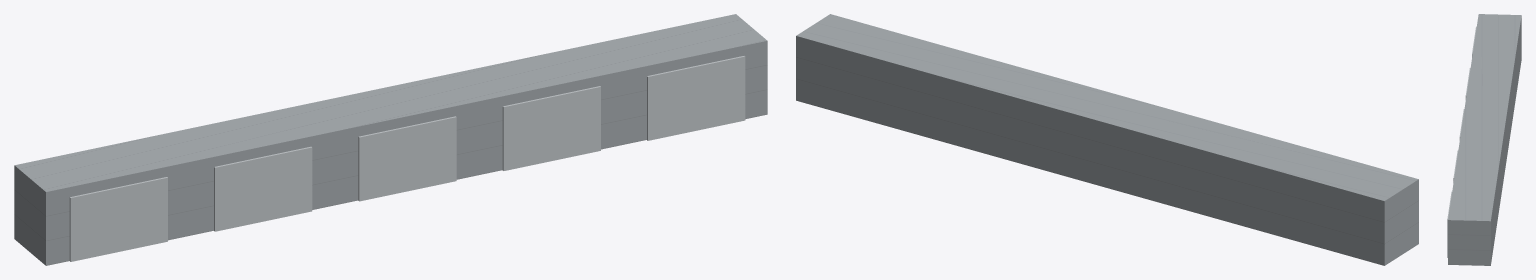
Rendered from garageGroup.glb.
The picture shows the model from 3 angles, left to right: view 1: azimuth 30°, elevation 25°; view 2: azimuth 150°, elevation 25°; view 3: azimuth 270°, elevation 25°; orthographic projection. The views are drawn at different scales.
Visible parts, largest first — view 1: garageGroup; view 2: garageGroup; view 3: garageGroup.
Boxes of the visible parts, x1,y1,x2,y2 form: garageGroup: (14,14,767,265); garageGroup: (796,14,1418,265); garageGroup: (1447,14,1521,265).
Size of the model in its own units: 29.76 by 3 by 4.51.
2 materials, 1 textured.
